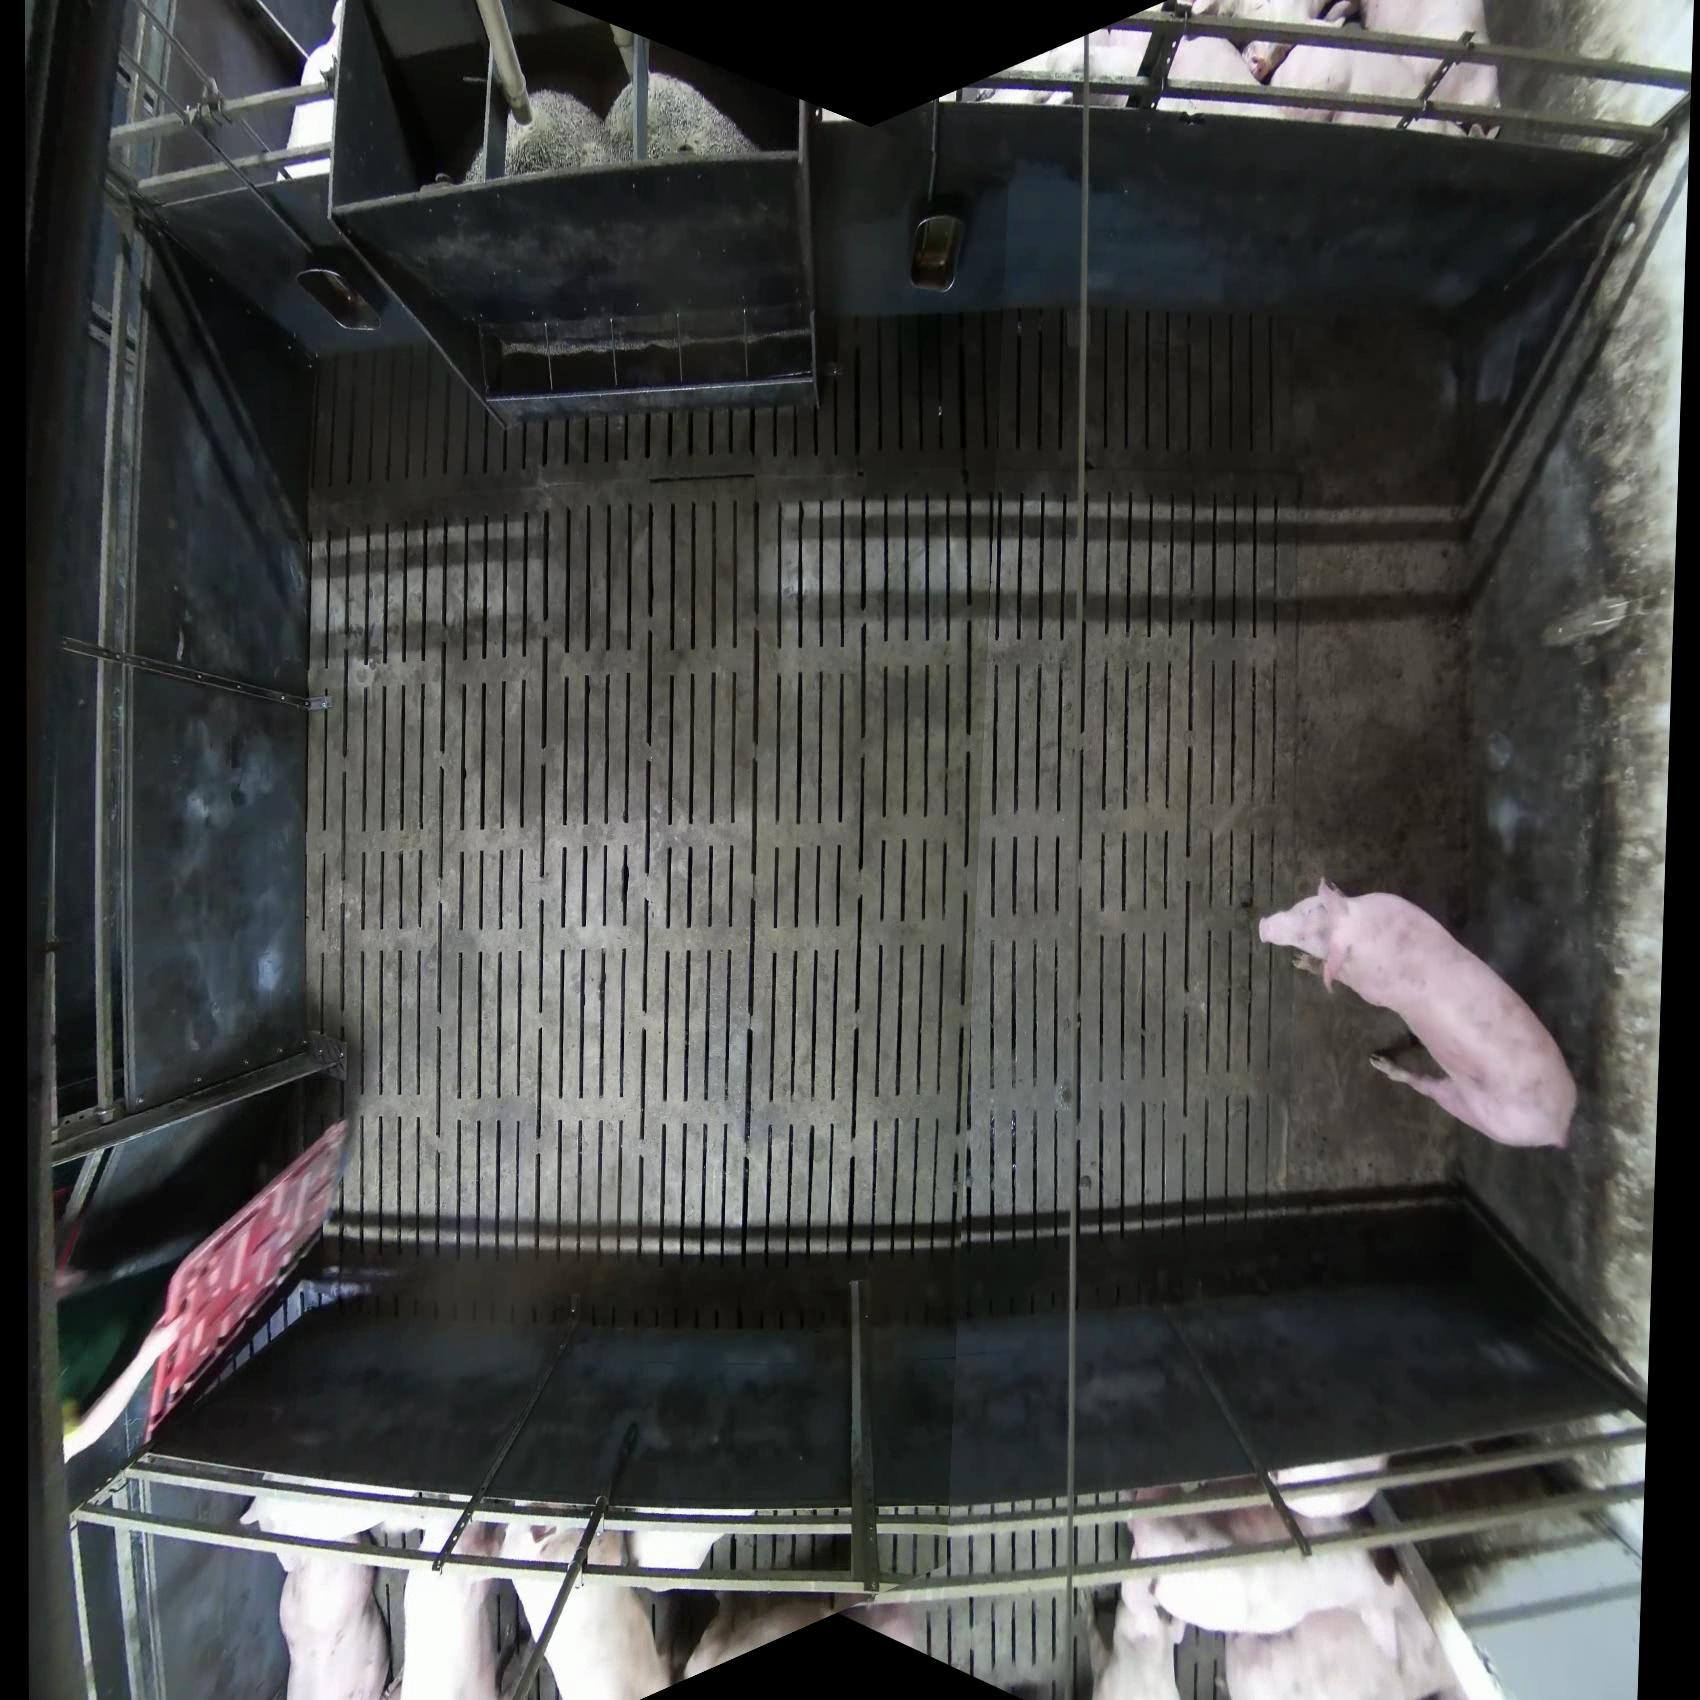pig: (1257, 876, 1580, 1152), (1091, 1482, 1466, 1700), (1266, 1, 1504, 139), (1182, 1, 1326, 87)
worker: (45, 1131, 361, 1477)
